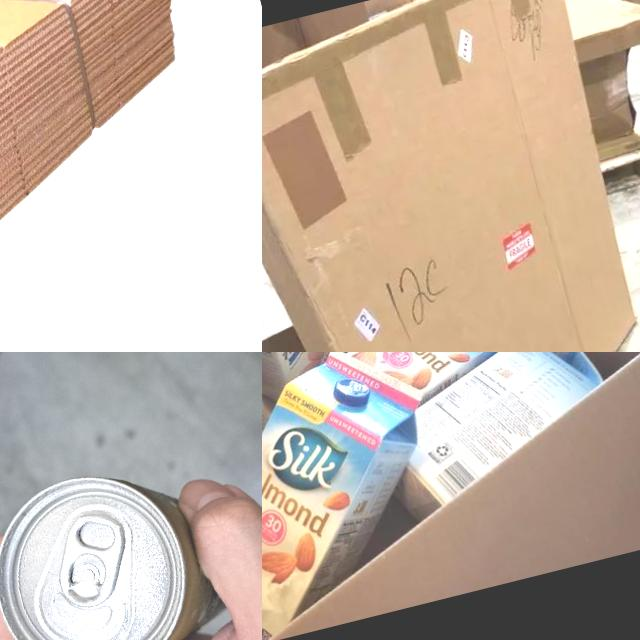aba de lata: (49, 510, 140, 615)
caixinha: (262, 352, 475, 640), (360, 352, 626, 526), (336, 352, 537, 422)
lata: (0, 452, 219, 640)
papelão: (262, 0, 640, 352), (0, 0, 237, 322)
tampa plástica: (330, 374, 374, 412)
